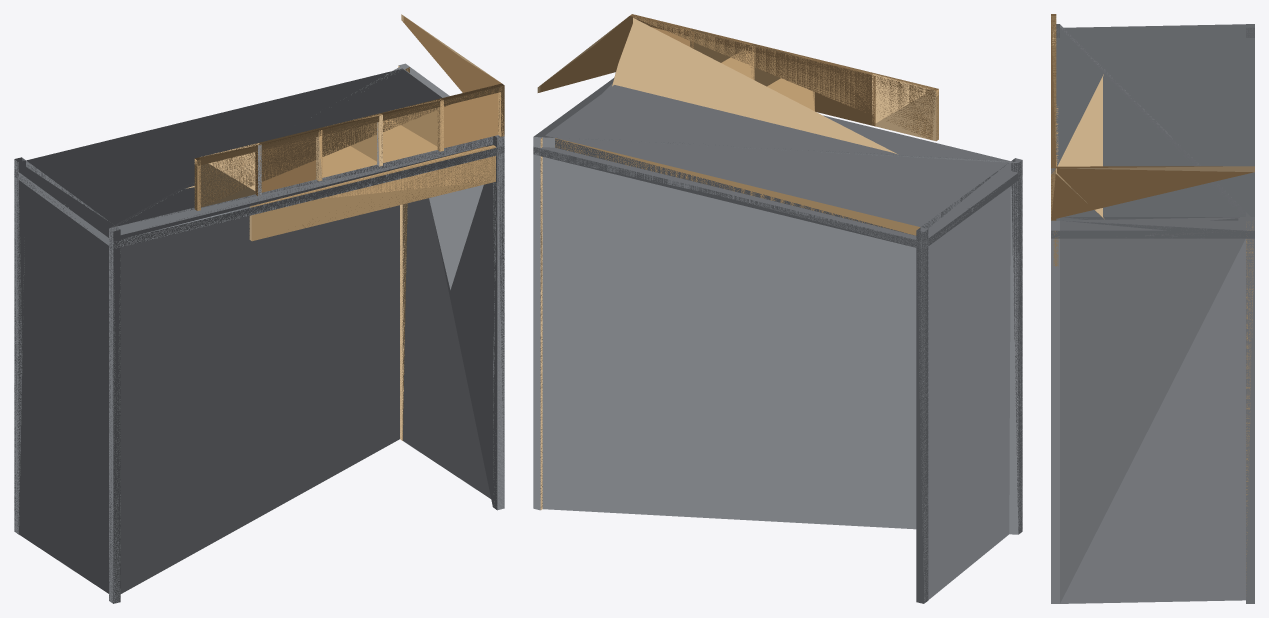
File: 单张书桌.obj
3 renders of one model, left to right at view 1: azimuth 30°, elevation 25°; view 2: azimuth 150°, elevation 25°; view 3: azimuth 270°, elevation 25°, orthographic. The views are drawn at different scales.
Visible parts, largest first — view 1: 床架, 书桌, 衣柜, 右侧贯通柜, 桌上书架; view 2: 床架, 衣柜, 书桌, 右侧贯通柜, 桌上书架; view 3: 床架, 桌上书架, 衣柜, 书桌.
Boxes of the visible parts, x1,y1,x2,y2 form: 床架: (14,63,504,603); 书桌: (194,83,504,210); 衣柜: (186,145,495,241); 右侧贯通柜: (255,99,443,195); 桌上书架: (401,14,504,150); 床架: (533,78,1022,603); 衣柜: (555,18,920,235); 书桌: (630,14,938,141); 右侧贯通柜: (690,29,875,126); 桌上书架: (537,15,693,92); 床架: (1051,24,1254,603); 桌上书架: (1051,149,1254,220); 衣柜: (1051,74,1104,266); 书桌: (1051,14,1056,172).
Bounding box in the file's own units: 210 × 217 × 92.
